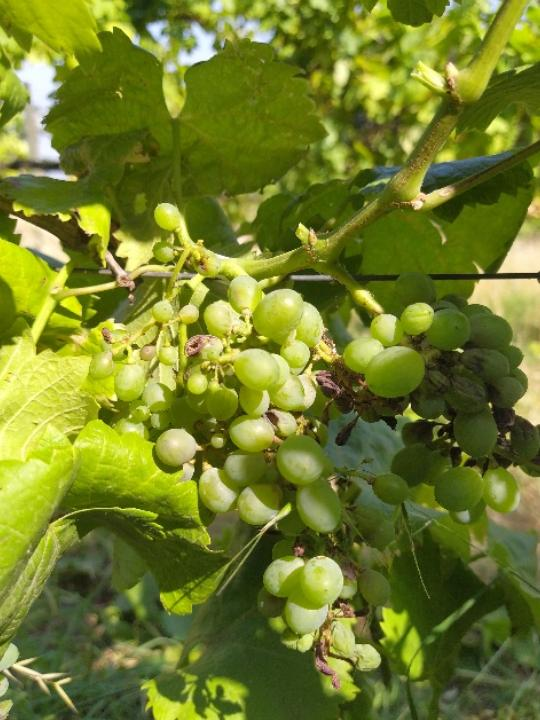grape: (86, 200, 409, 690), (341, 269, 540, 528)
